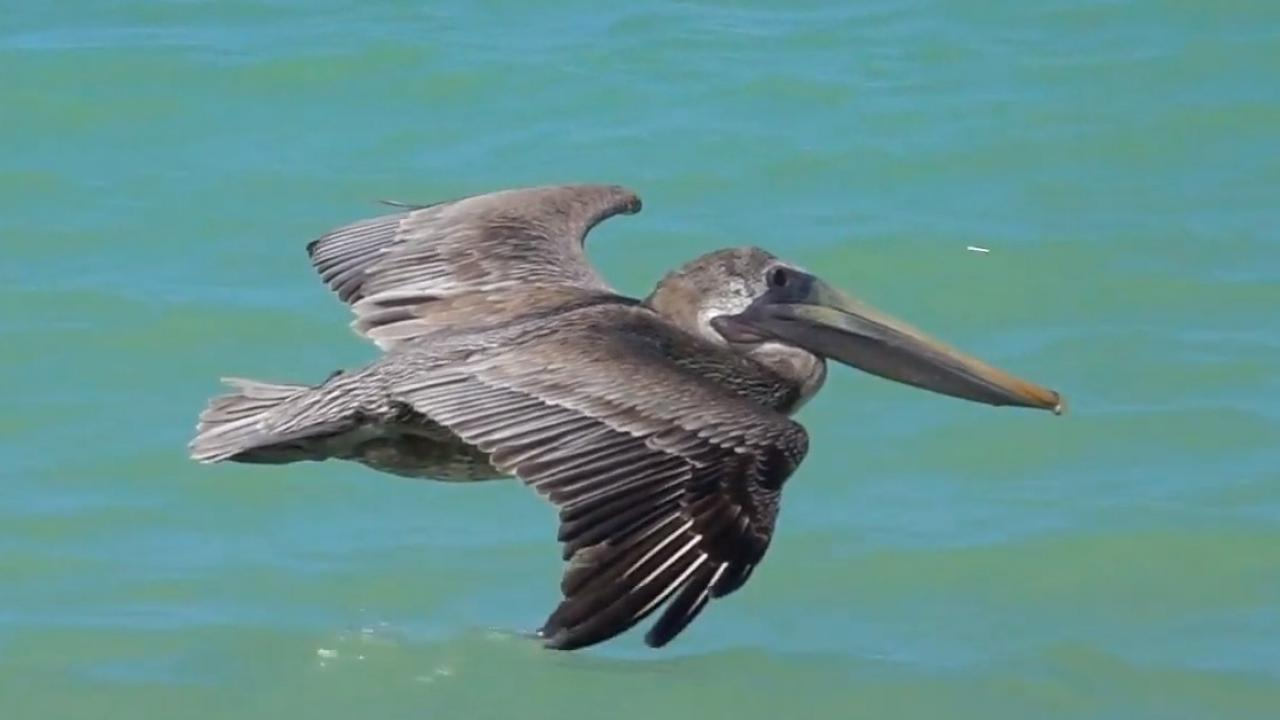Bird: (178, 174, 1076, 672)
